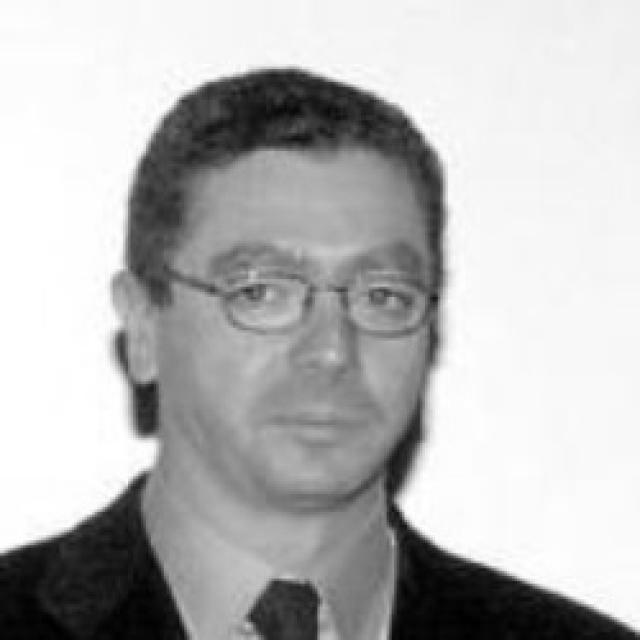real: (174, 142, 430, 504), (223, 273, 422, 326)
